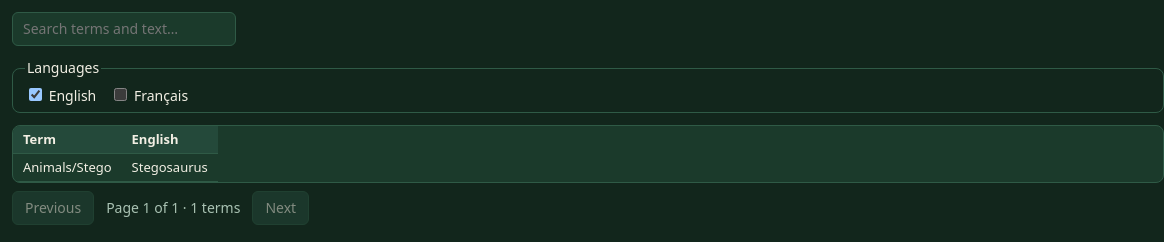
LocalizationView › starts with English and adds a language when it is ticked
Check: the text "Stegosaurus" is shown, box [122,153,218,181]
Click the checkbox labelled "Français" at {"x": 121, "y": 94}, box [114,88,127,101]
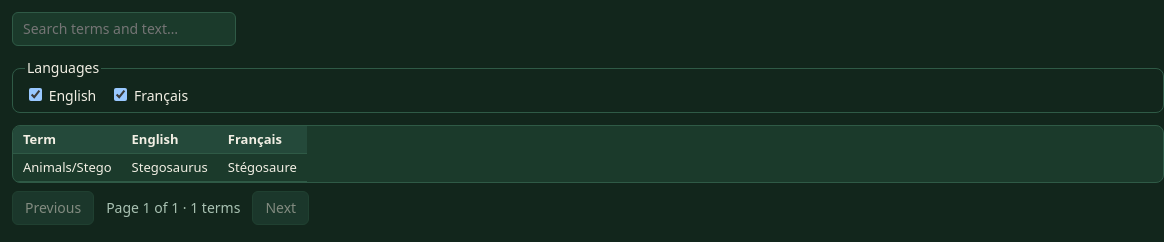
Check: the text "Stégosaure" is shown, box [218,153,307,181]
